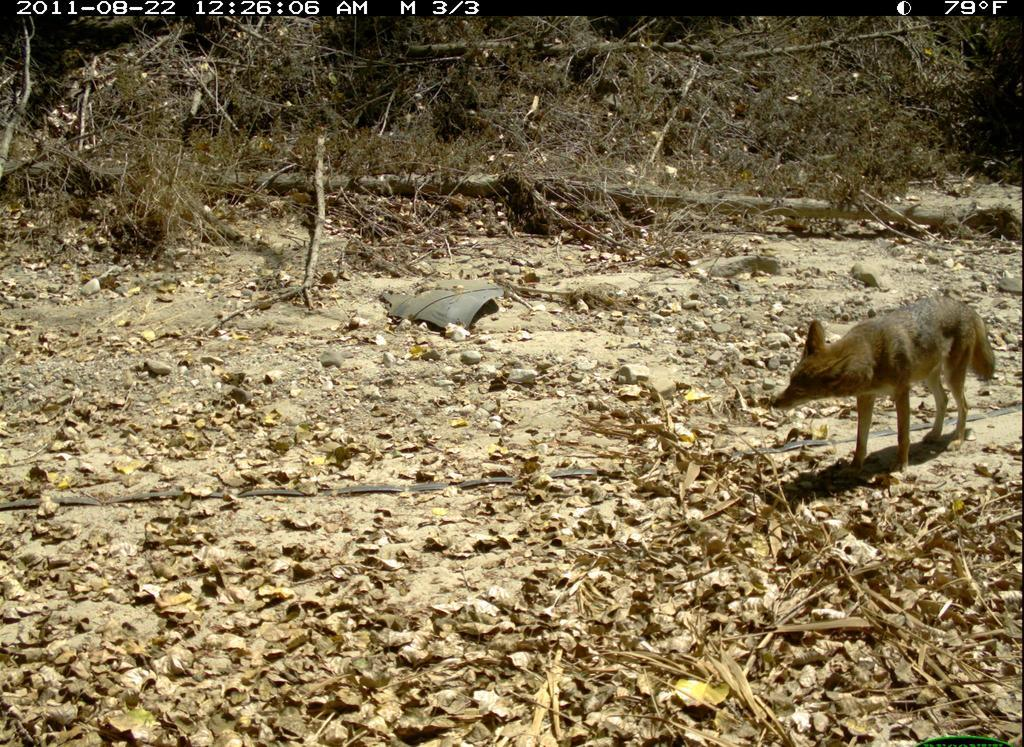coyote: (763, 285, 1005, 487)
